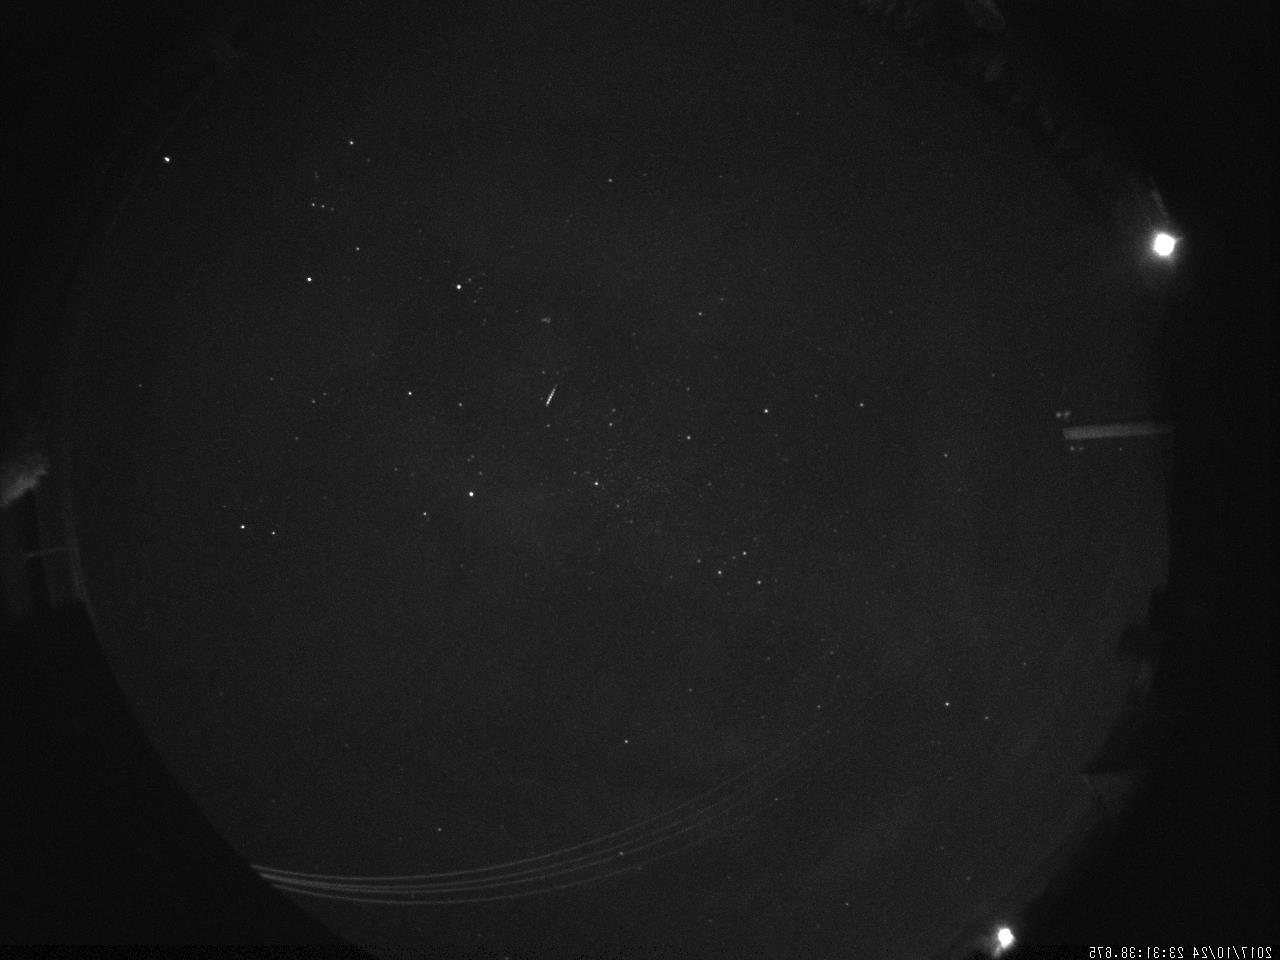meteor: (535, 377, 564, 413)
